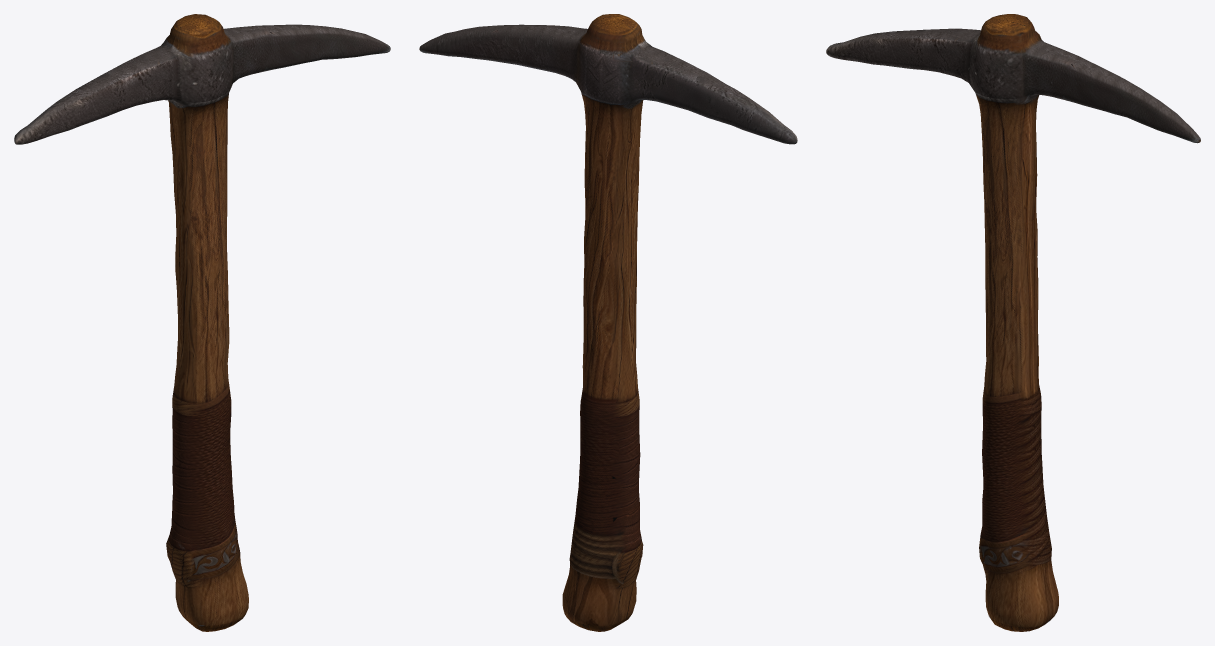
The model's file is Pickaxe.fbx.
The picture shows the model from 3 angles, left to right: view 1: azimuth 30°, elevation 25°; view 2: azimuth 150°, elevation 25°; view 3: azimuth 330°, elevation 25°; orthographic projection.
Parts seen in each view (by area): view 1: Pickaxe; view 2: Pickaxe; view 3: Pickaxe.
Part boxes in pixels (left/top/right/bottom): Pickaxe: left=14, top=14, right=390, bottom=631; Pickaxe: left=419, top=14, right=797, bottom=631; Pickaxe: left=826, top=14, right=1200, bottom=631.
Bounding box in the file's own units: 51.52 × 79 × 8.17.
1 material, 1 textured.
